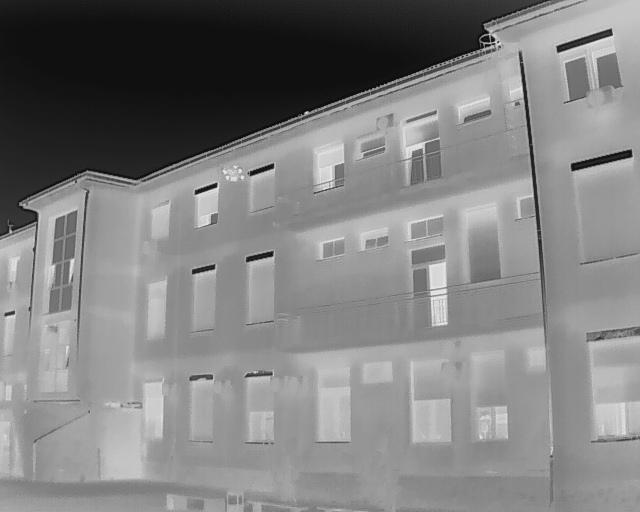drone: (214, 166, 252, 196)
